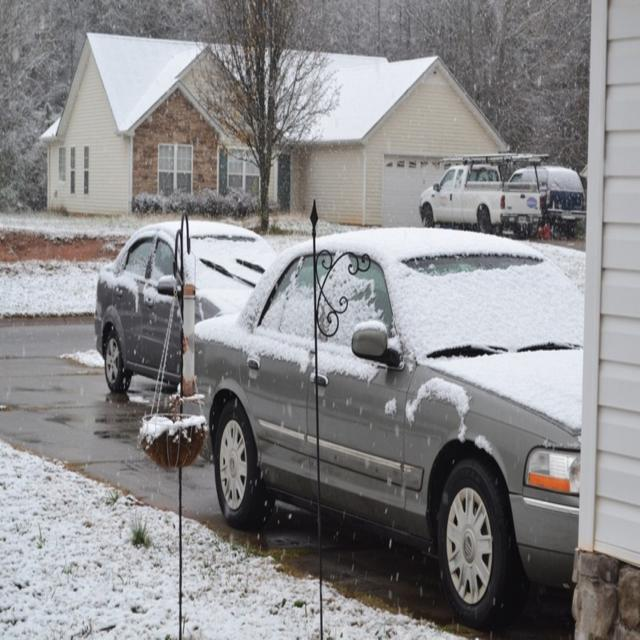car: (206, 227, 582, 634), (91, 214, 277, 404), (419, 162, 543, 239), (509, 161, 582, 231)
